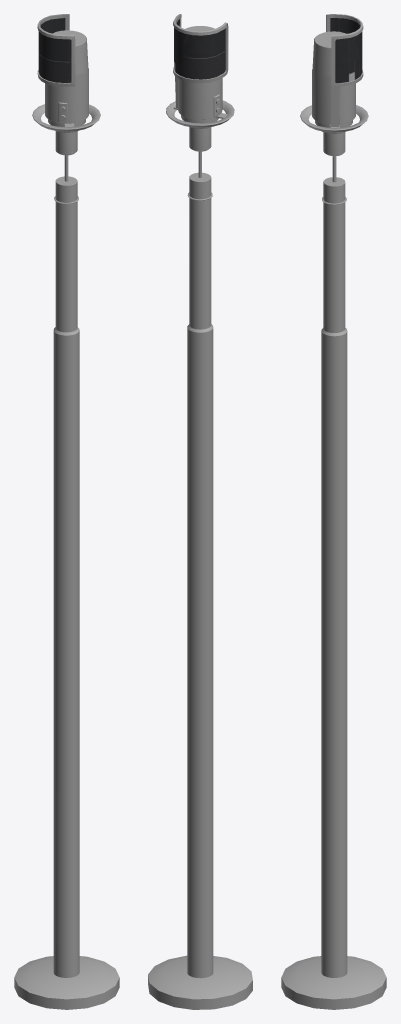
Rendered from micro.fbx.
3 renders of one model, left to right at view 1: azimuth 90°, elevation 25°; view 2: azimuth 150°, elevation 25°; view 3: azimuth 270°, elevation 25°, orthographic.
Parts seen in each view (by area): view 1: micro_SM; view 2: micro_SM; view 3: micro_SM.
Boxes of the visible parts, box(x1,y1,x2,y2) form: micro_SM: box(14, 14, 119, 1009); micro_SM: box(148, 14, 252, 1009); micro_SM: box(281, 14, 386, 1009).
Size of the model in its own units: 16.49 by 167 by 16.49.
